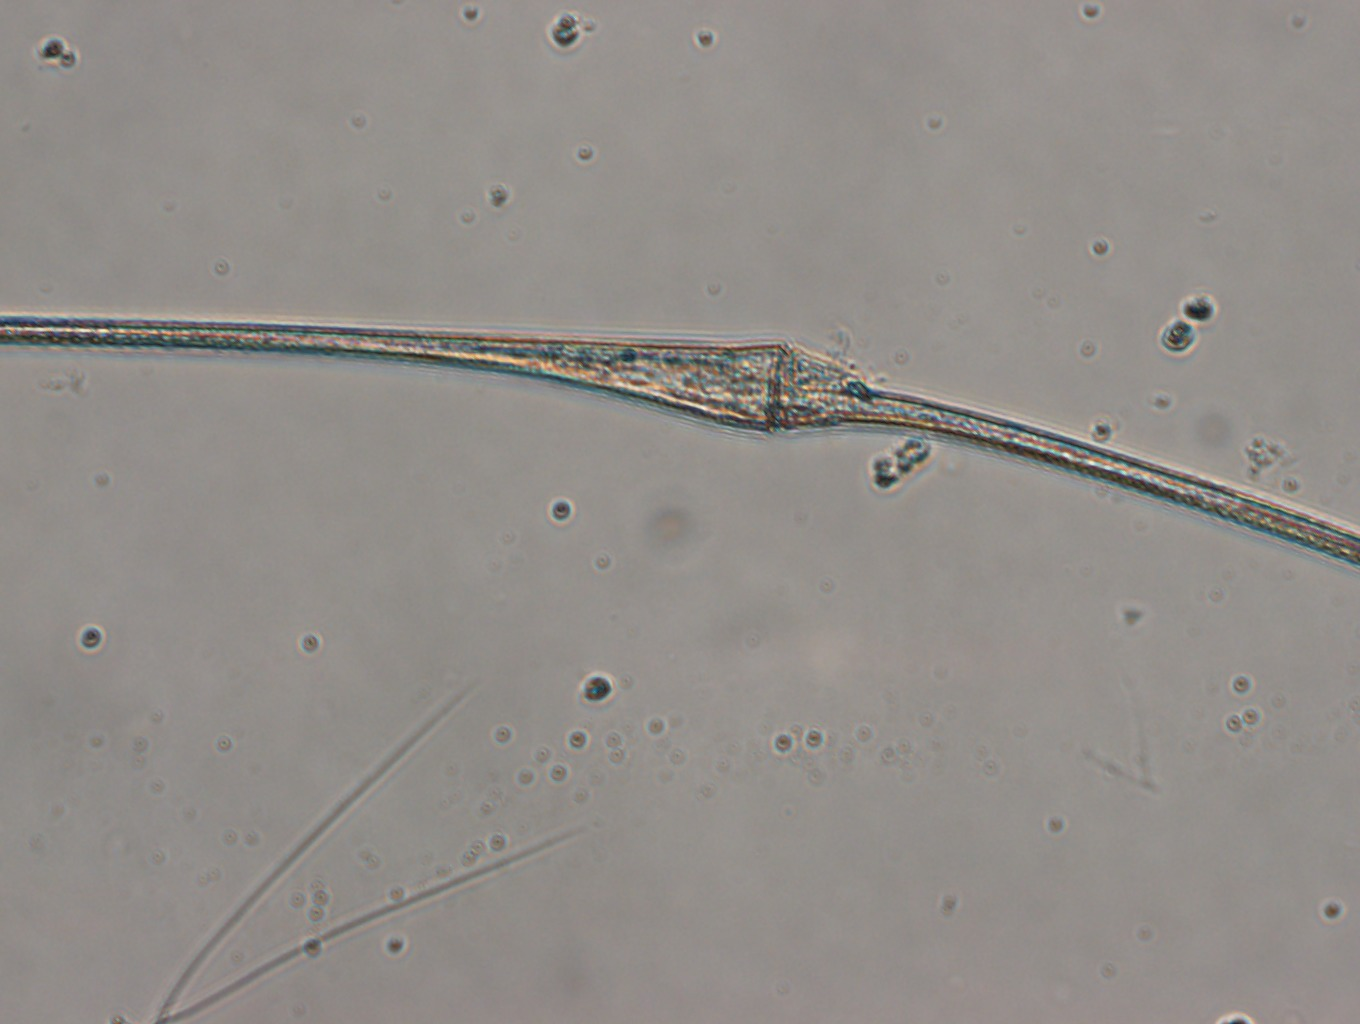ceratium fusus: (1, 305, 1360, 569)
